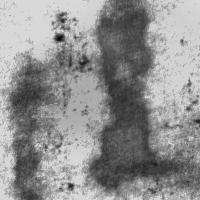patches: (62, 3, 200, 157), (95, 1, 171, 193), (28, 48, 118, 138), (8, 56, 44, 199), (61, 37, 123, 99)
